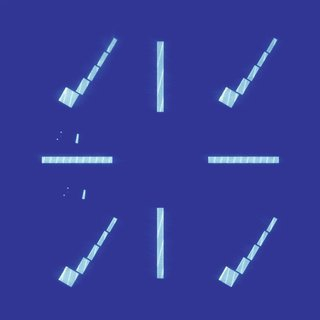overheated: (226, 86, 228, 89)
